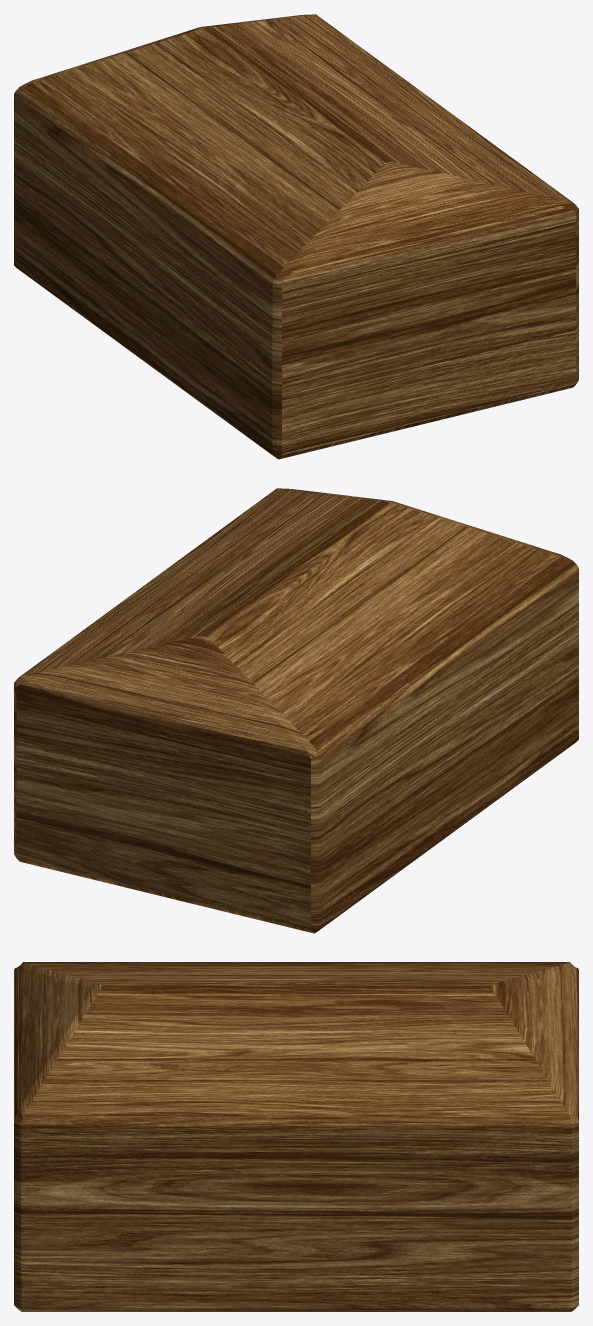
Rendered from roofBlock.obj.
3 renders of one model, top to bottom at view 1: azimuth 30°, elevation 25°; view 2: azimuth 150°, elevation 25°; view 3: azimuth 270°, elevation 25°, orthographic. The views are drawn at different scales.
Parts seen in each view (by area): view 1: pCube1; view 2: pCube1; view 3: pCube1.
Part boxes in pixels (x1=…): pCube1: x1=14, y1=14, x2=578, y2=459; pCube1: x1=14, y1=488, x2=578, y2=933; pCube1: x1=14, y1=962, x2=578, y2=1311.
Size of the model in its own units: 200 by 146 by 300.
1 material, 1 textured.
